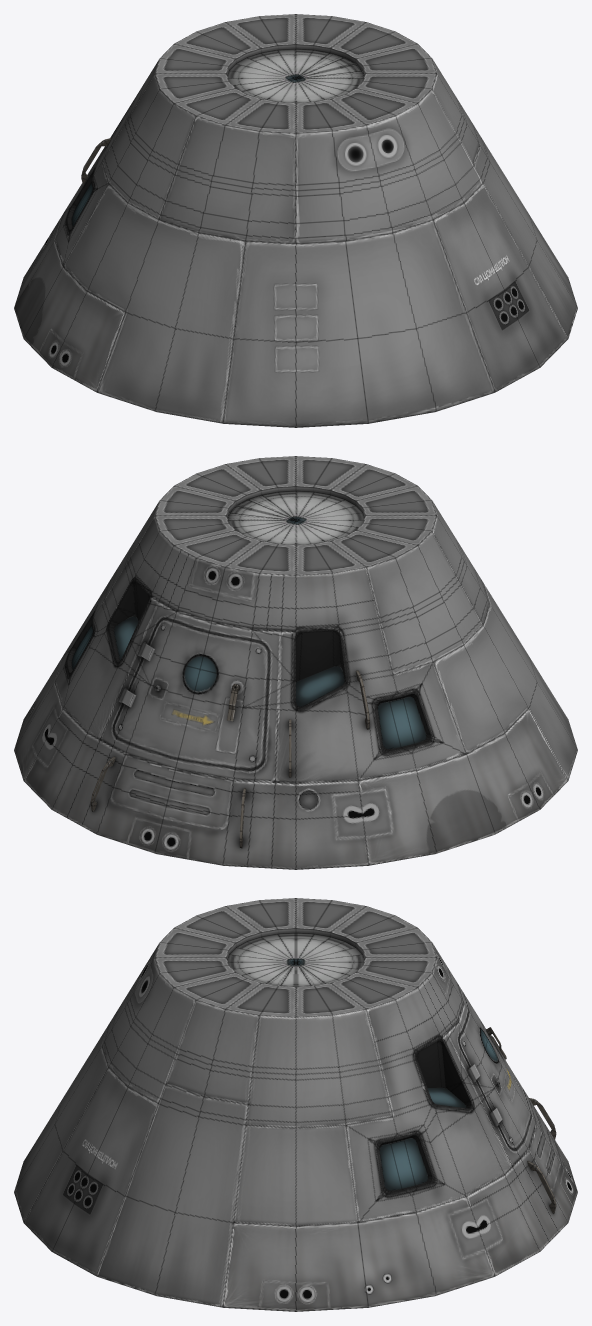
Rendered from Apollo_Block2_Capsule_NewWindows.dae.
3 renders of one model, top to bottom at view 1: azimuth 30°, elevation 25°; view 2: azimuth 150°, elevation 25°; view 3: azimuth 270°, elevation 25°, orthographic.
Parts seen in each view (by area): view 1: polySurface164; view 2: polySurface164; view 3: polySurface164.
Part boxes in pixels (x1,y1,x2,y2): polySurface164: (14, 14, 577, 427); polySurface164: (14, 456, 577, 869); polySurface164: (14, 898, 577, 1311).
Size of the model in its own units: 2.5 by 1.16 by 2.5.
